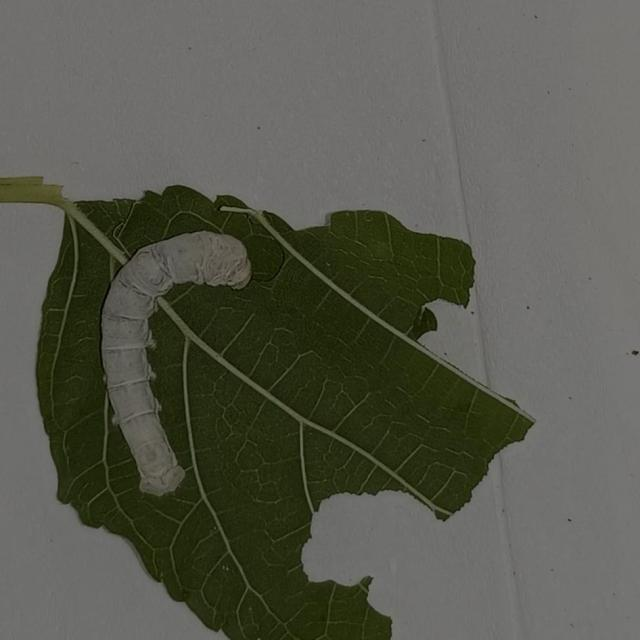Healthy: (84, 221, 262, 510)
